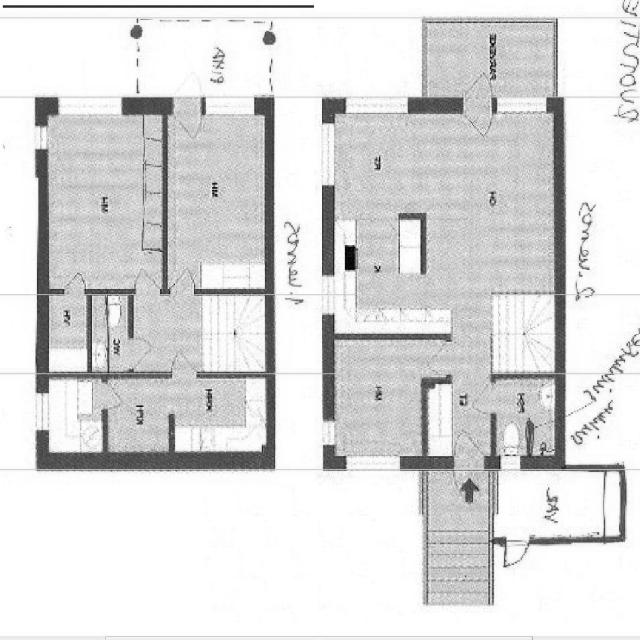door: (448, 421, 487, 508), (458, 68, 498, 148), (169, 68, 210, 140), (494, 534, 544, 576), (165, 339, 200, 382), (164, 260, 196, 306), (423, 340, 456, 379), (123, 328, 152, 372), (131, 267, 163, 306), (466, 380, 498, 418), (101, 382, 128, 416), (59, 268, 88, 294)
window: (46, 87, 138, 131), (312, 115, 345, 204), (336, 86, 417, 119), (486, 87, 551, 125), (337, 452, 422, 481), (200, 89, 256, 125), (24, 371, 53, 440), (319, 270, 342, 331), (497, 452, 539, 473), (30, 121, 50, 163), (319, 412, 338, 448)
zone: (327, 106, 572, 214), (40, 103, 159, 296), (160, 105, 269, 298), (479, 460, 631, 547), (325, 334, 424, 462), (323, 210, 426, 332), (169, 369, 269, 465), (489, 376, 565, 466), (100, 367, 171, 462), (42, 374, 102, 449), (44, 290, 88, 378), (89, 294, 132, 374)
